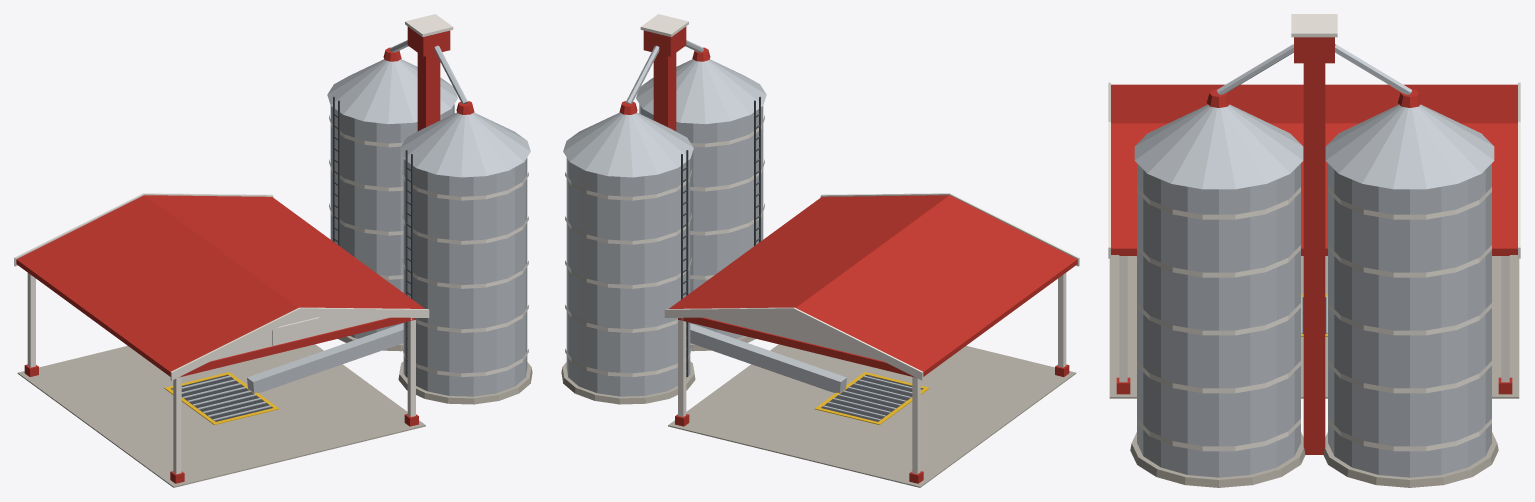
File: silo.glb
3 views of the same model, side by side, from view 1: azimuth 30°, elevation 25°; view 2: azimuth 150°, elevation 25°; view 3: azimuth 270°, elevation 25° (orthographic). The views are drawn at different scales.
Parts seen in each view (by area): view 1: roof, pad, bin_B, bin_A, cone_B, cone_A, fascia, conveyor, bands_B, posts, pit, beams (+11 smaller); view 2: roof, pad, bin_A, bin_B, cone_A, cone_B, fascia, conveyor, bands_A, posts, gables, pit (+10 smaller); view 3: bin_A, bin_B, roof, cone_A, cone_B, leg, pad, bands_A, bands_B, posts, foundation_A, foundation_B (+6 smaller).
Part boxes in pixels (bbox=[...]): roof: bbox=[16, 195, 424, 376]; pad: bbox=[17, 344, 425, 487]; bin_B: bbox=[403, 158, 527, 396]; bin_A: bbox=[330, 104, 454, 338]; cone_B: bbox=[400, 112, 530, 177]; cone_A: bbox=[327, 59, 457, 124]; fascia: bbox=[14, 193, 429, 380]; conveyor: bbox=[247, 323, 403, 393]; bands_B: bbox=[402, 169, 528, 377]; posts: bbox=[27, 273, 415, 474]; pit: bbox=[171, 375, 272, 421]; beams: bbox=[179, 317, 415, 377]; roof: bbox=[669, 195, 1077, 376]; pad: bbox=[668, 344, 1076, 487]; bin_A: bbox=[566, 158, 690, 396]; bin_B: bbox=[639, 104, 763, 338]; cone_A: bbox=[563, 112, 693, 177]; cone_B: bbox=[636, 59, 766, 124]; fascia: bbox=[664, 193, 1079, 380]; conveyor: bbox=[690, 323, 846, 393]; bands_A: bbox=[565, 169, 691, 377]; posts: bbox=[678, 273, 1066, 474]; gables: bbox=[705, 316, 881, 360]; pit: bbox=[821, 375, 922, 421]; bin_A: bbox=[1328, 163, 1491, 477]; bin_B: bbox=[1137, 163, 1300, 477]; roof: bbox=[1111, 84, 1517, 254]; cone_A: bbox=[1325, 104, 1494, 189]; cone_B: bbox=[1134, 104, 1303, 189]; leg: bbox=[1303, 63, 1325, 454]; pad: bbox=[1109, 255, 1519, 398]; bands_A: bbox=[1328, 187, 1491, 451]; bands_B: bbox=[1137, 187, 1300, 451]; posts: bbox=[1119, 256, 1509, 382]; foundation_A: bbox=[1323, 432, 1498, 487]; foundation_B: bbox=[1130, 432, 1305, 487].
Bounding box in the file's own units: 21.9 × 17.25 × 15.1.
